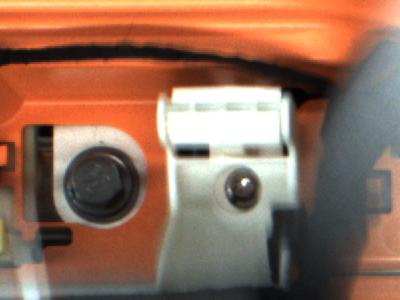nut_b: (55, 144, 151, 227)
